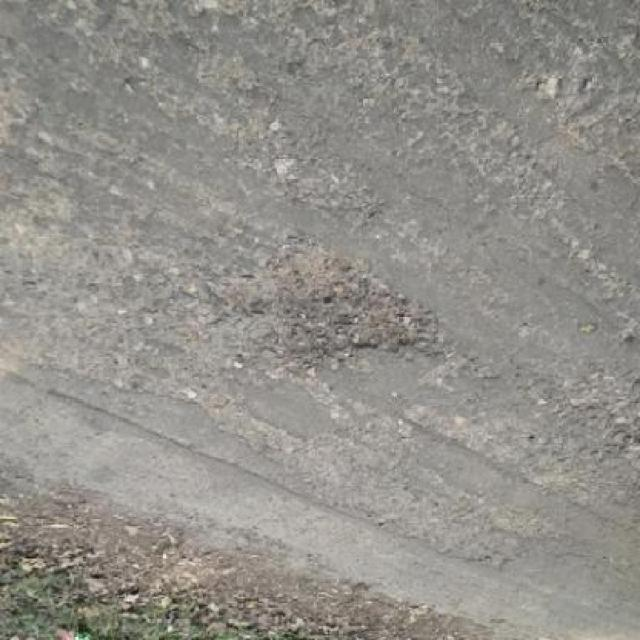pothole: (209, 244, 442, 364)
